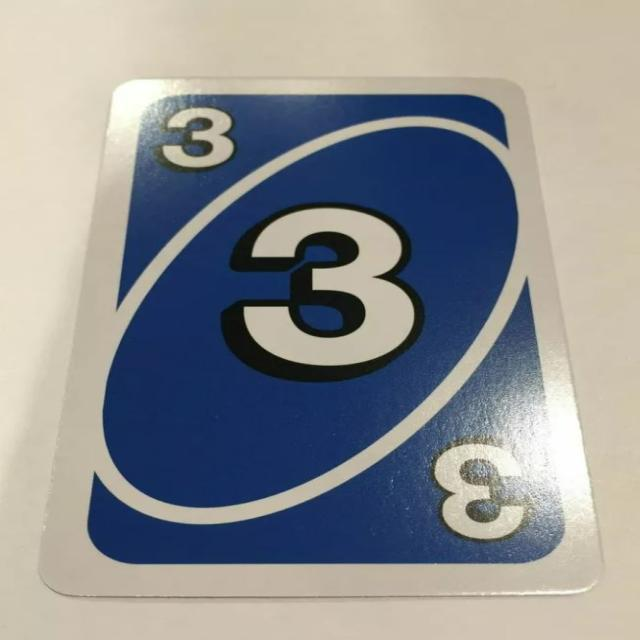Blue_Card: (81, 86, 574, 572)
Number_3: (149, 104, 241, 177)
